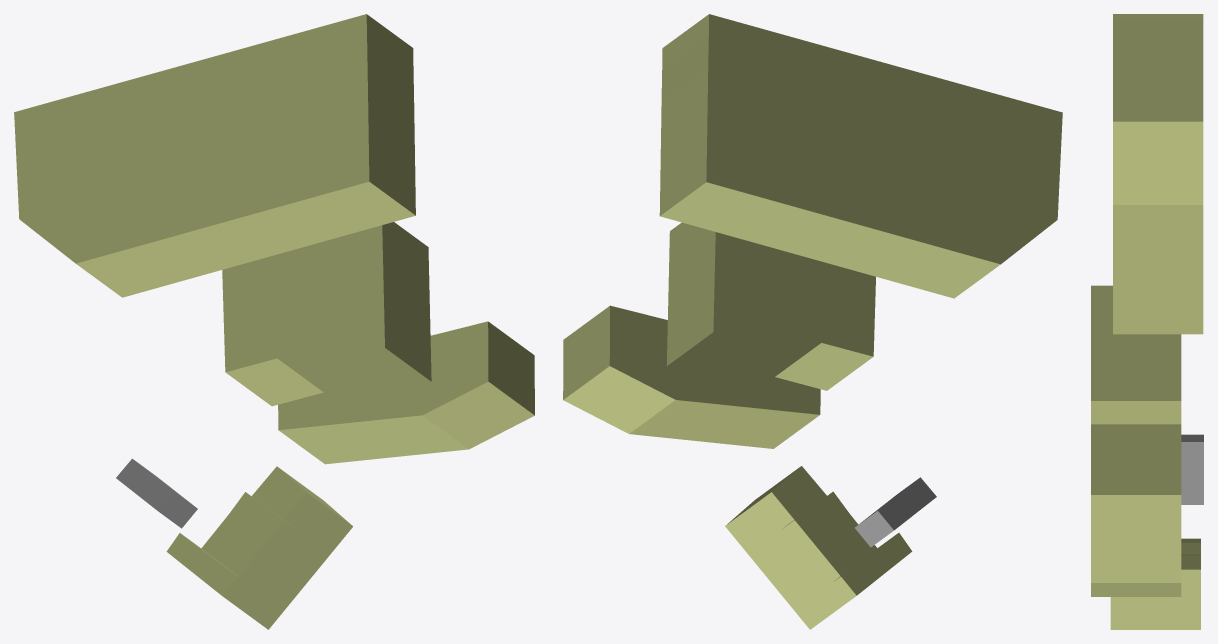
The picture shows the model from 3 angles, left to right: view 1: azimuth 30°, elevation 25°; view 2: azimuth 150°, elevation 25°; view 3: azimuth 270°, elevation 25°; orthographic projection. The views are drawn at different scales.
Parts seen in each view (by area): view 1: 0_1_2_0_1_3_0_0_0; view 2: 0_1_2_0_1_3_0_0_0; view 3: 0_1_2_0_1_3_0_0_0.
Boxes of the visible parts, left/top/right/bottom form: 0_1_2_0_1_3_0_0_0: left=14, top=14, right=534, bottom=629; 0_1_2_0_1_3_0_0_0: left=563, top=14, right=1062, bottom=629; 0_1_2_0_1_3_0_0_0: left=1091, top=14, right=1203, bottom=629.
Bounding box in the file's own units: 34.47 × 38.79 × 7.49.
